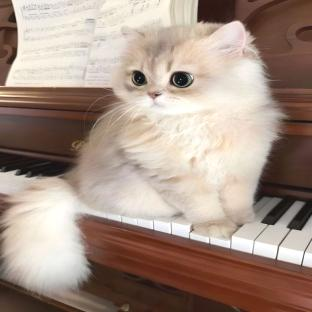Animal: (1, 21, 284, 293)
